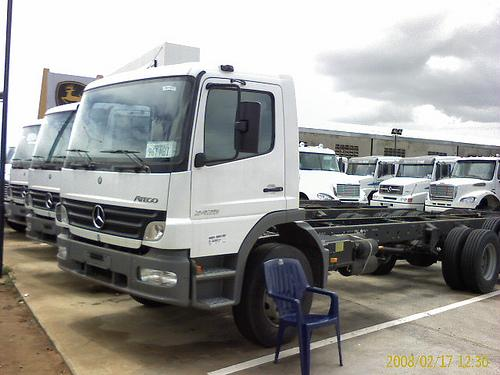truck: (57, 60, 500, 349), (25, 103, 93, 247), (9, 113, 59, 234)
